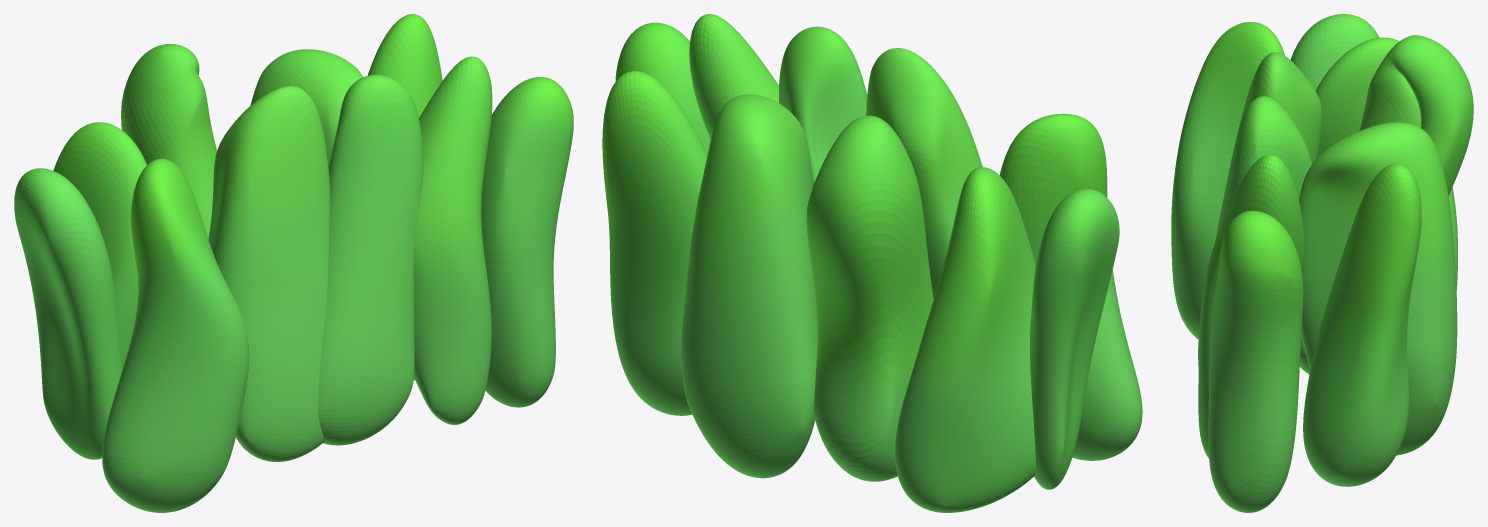
File: grass.glb
3 renders of one model, left to right at view 1: azimuth 30°, elevation 25°; view 2: azimuth 150°, elevation 25°; view 3: azimuth 270°, elevation 25°, orthographic. The views are drawn at different scales.
Visible parts, largest first — view 1: Quad Sphere 4, Quad Sphere 3, Quad Sphere, Quad Sphere 1, Quad Sphere 2, Quad Sphere 5, Quad Sphere 7, Quad Sphere 6, Quad Sphere 8, Quad Sphere 9; view 2: Quad Sphere 8, Quad Sphere 6, Quad Sphere 7, Quad Sphere 9, Quad Sphere 5, Quad Sphere 4, Quad Sphere 3, Quad Sphere, Quad Sphere 1, Quad Sphere 2; view 3: Quad Sphere 9, Quad Sphere 2, Quad Sphere 8, Quad Sphere 4, Quad Sphere 7, Quad Sphere 1, Quad Sphere 6, Quad Sphere, Quad Sphere 3, Quad Sphere 5.
Part boxes in pixels (x1,y1,x2,y2): Quad Sphere 4: (102, 158, 249, 512); Quad Sphere 3: (208, 86, 329, 461); Quad Sphere: (318, 74, 423, 445); Quad Sphere 1: (413, 56, 492, 424); Quad Sphere 2: (481, 77, 573, 407); Quad Sphere 5: (14, 168, 122, 459); Quad Sphere 7: (121, 44, 216, 238); Quad Sphere 6: (53, 122, 146, 369); Quad Sphere 8: (250, 49, 362, 164); Quad Sphere 9: (367, 14, 442, 380); Quad Sphere 8: (681, 94, 817, 478); Quad Sphere 6: (895, 167, 1036, 512); Quad Sphere 7: (806, 115, 933, 481); Quad Sphere 9: (602, 71, 707, 415); Quad Sphere 5: (1030, 188, 1119, 489); Quad Sphere 4: (999, 113, 1142, 460); Quad Sphere 3: (866, 48, 982, 298); Quad Sphere: (779, 26, 867, 186); Quad Sphere 1: (689, 14, 778, 139); Quad Sphere 2: (615, 22, 710, 153); Quad Sphere 9: (1303, 163, 1421, 486); Quad Sphere 2: (1208, 210, 1303, 512); Quad Sphere 8: (1299, 122, 1457, 455); Quad Sphere 4: (1171, 22, 1284, 339); Quad Sphere 7: (1299, 35, 1473, 374); Quad Sphere 1: (1198, 154, 1303, 458); Quad Sphere 6: (1316, 37, 1457, 289); Quad Sphere: (1198, 96, 1311, 366); Quad Sphere 3: (1237, 52, 1322, 163); Quad Sphere 5: (1290, 14, 1378, 90).
Size of the model in its own units: 0.2795 by 0.1988 by 0.1507.
